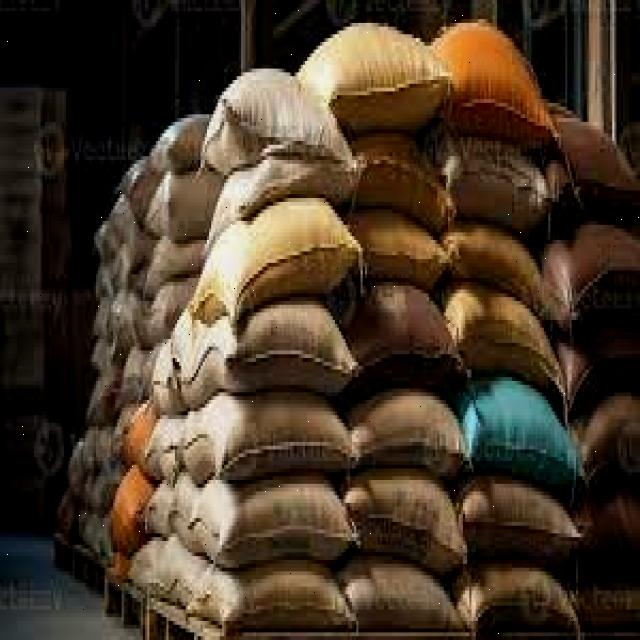sack: (227, 198, 356, 335), (324, 22, 452, 134), (462, 375, 582, 489), (214, 73, 356, 168), (349, 467, 464, 584), (442, 26, 552, 146), (215, 482, 352, 576), (214, 397, 356, 487), (452, 287, 570, 387), (220, 305, 353, 393), (458, 466, 576, 564), (442, 120, 544, 233), (350, 389, 466, 485), (349, 128, 454, 234), (344, 299, 462, 393), (448, 222, 552, 324), (552, 222, 640, 341), (219, 558, 347, 638), (342, 564, 472, 640), (232, 153, 360, 225), (551, 120, 640, 217), (462, 568, 582, 638), (347, 202, 449, 282), (568, 476, 640, 582), (561, 325, 640, 419)
